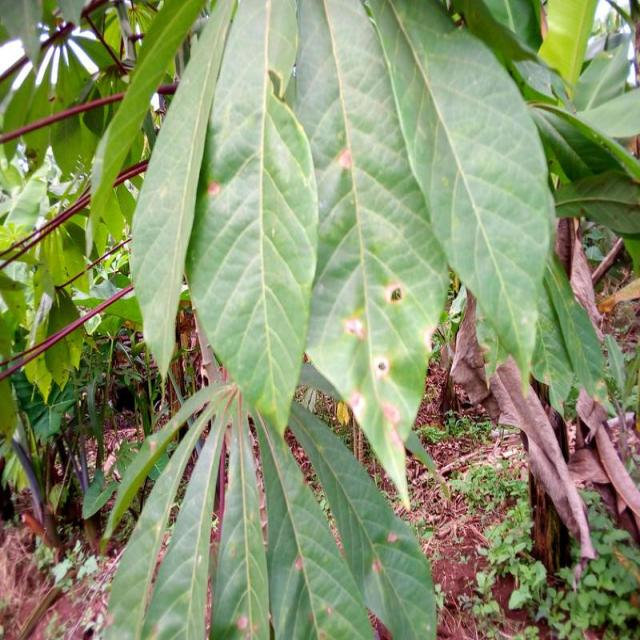cassava leaf: (290, 0, 450, 511), (365, 0, 559, 400), (182, 0, 319, 437)
